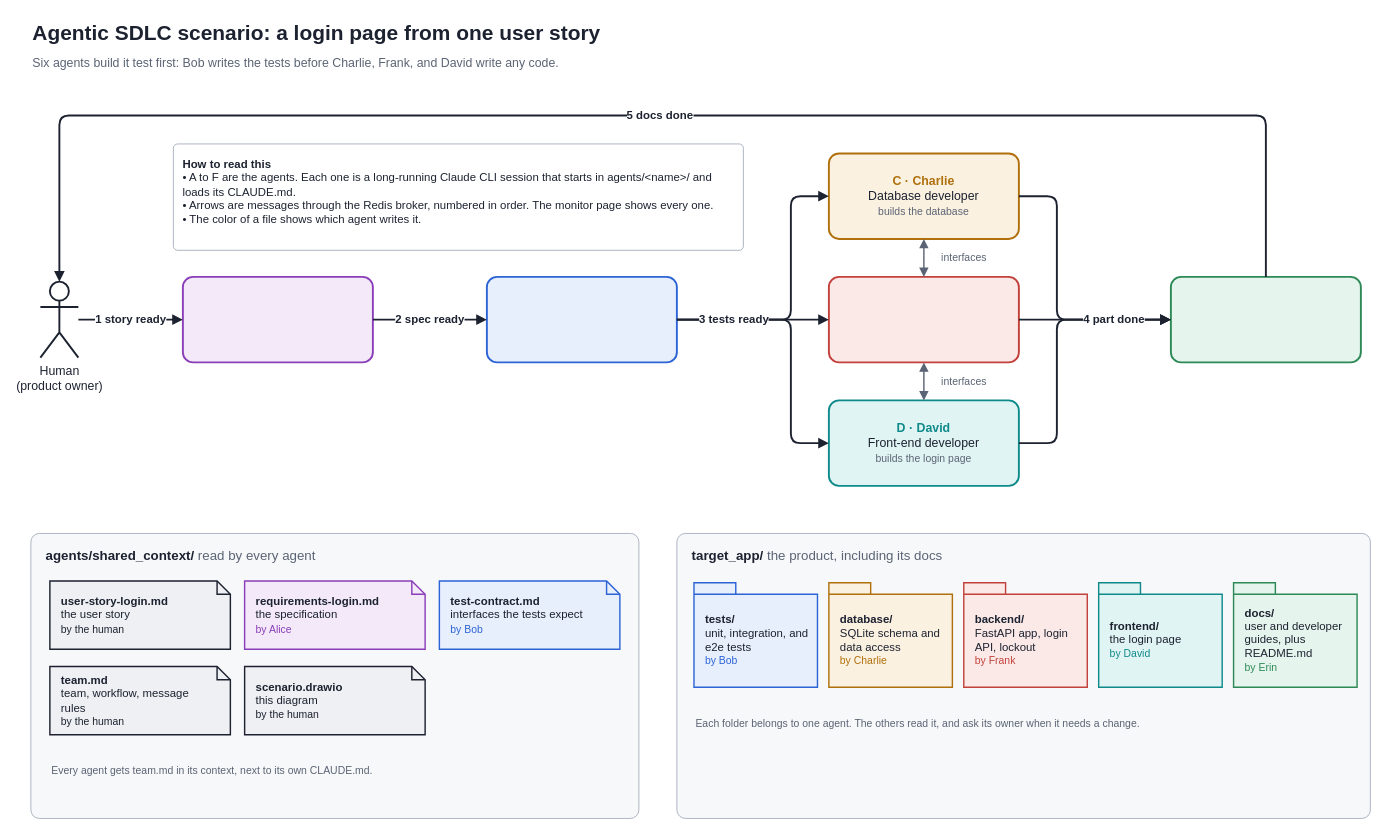
This 1387x835 diagram has some shape labels left out. Here are the shapes that lost their labels. From the top down, the centre of each, then its label:
At [277,319]: "A · Alice Requirements analyst writes the specification".
At [581,319]: "B · Bob Test engineer writes the tests first (TDD)".
At [923,319]: "F · Frank Back-end developer builds the login API and lockout".
At [1265,319]: "E · Erin Technical writer writes the docs".
